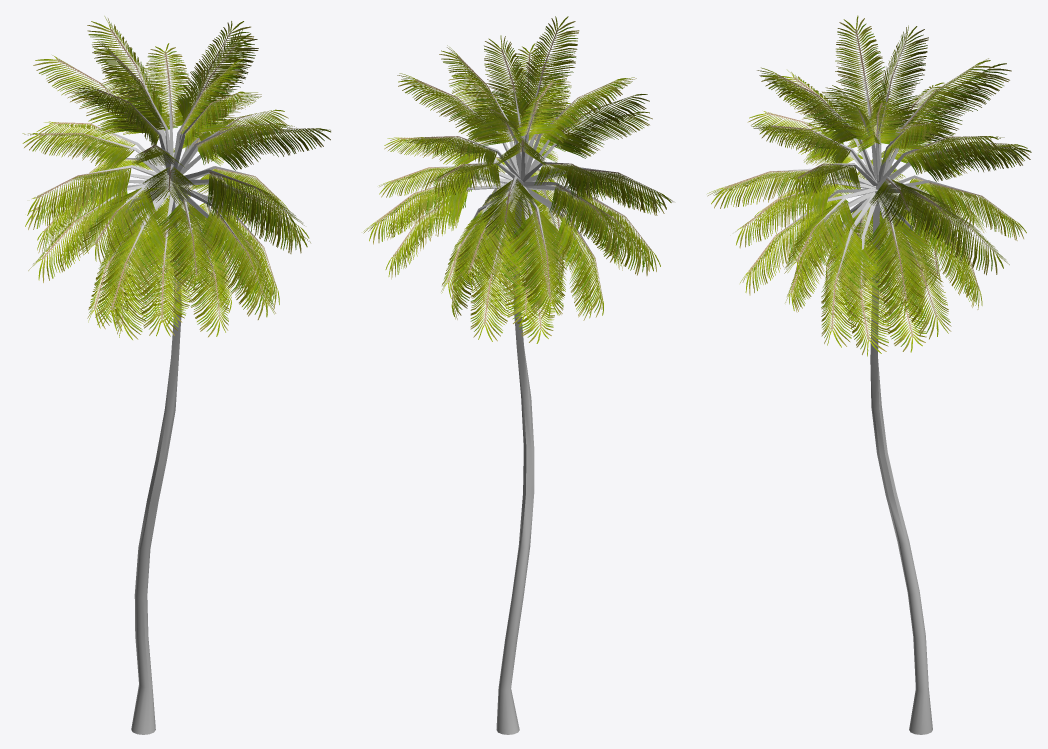
The picture shows the model from 3 angles, left to right: view 1: azimuth 30°, elevation 25°; view 2: azimuth 150°, elevation 25°; view 3: azimuth 270°, elevation 25°; orthographic projection. The views are drawn at different scales.
Parts seen in each view (by area): view 1: Tree_1, Tree_0; view 2: Tree_1, Tree_0; view 3: Tree_1, Tree_0.
Boxes of the visible parts, bbox=[...] form: Tree_1: bbox=[22, 16, 330, 339]; Tree_0: bbox=[77, 70, 261, 734]; Tree_1: bbox=[363, 16, 673, 343]; Tree_0: bbox=[416, 71, 620, 734]; Tree_1: bbox=[707, 15, 1031, 356]; Tree_0: bbox=[773, 72, 978, 734].
Size of the model in its own units: 66.62 by 156 by 67.58.
